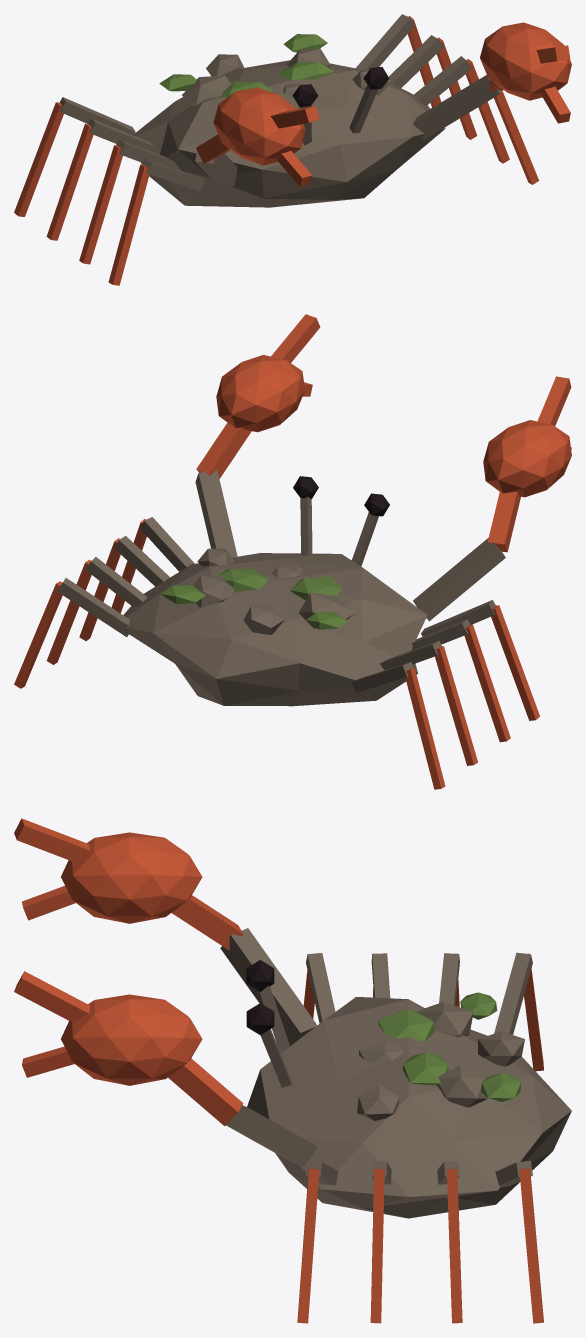
File: monster_cua_da.glb
3 views of the same model, one above another, from view 1: azimuth 30°, elevation 25°; view 2: azimuth 150°, elevation 25°; view 3: azimuth 270°, elevation 25° (orthographic). The views are drawn at different scales.
Visible parts, largest first — view 1: monster_cua_da; view 2: monster_cua_da; view 3: monster_cua_da.
Part boxes in pixels (bbox=[...]): monster_cua_da: bbox=[14, 14, 571, 285]; monster_cua_da: bbox=[14, 314, 571, 789]; monster_cua_da: bbox=[14, 818, 571, 1323].
Size of the model in its own units: 10.56 by 5.67 by 9.6.
